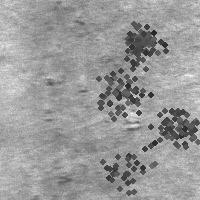rolled-in_scale: (77, 50, 157, 130), (88, 34, 147, 135), (142, 90, 200, 162), (89, 139, 153, 200), (109, 11, 167, 69)
